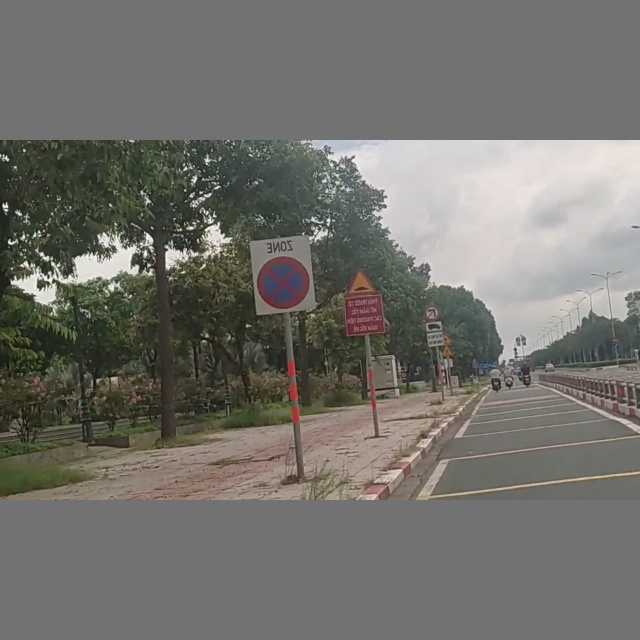P.123b: (424, 305, 439, 321)
P.130: (251, 235, 315, 313)
S.505a*Xe tai: (426, 321, 445, 347)
W.221b: (345, 270, 377, 295)
